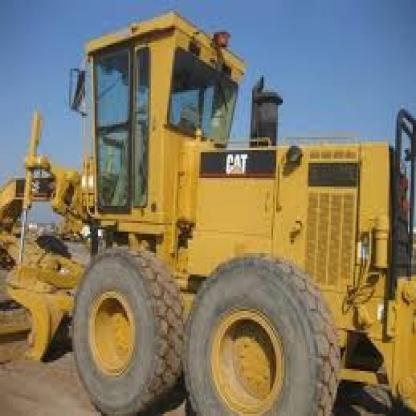bull_dozer/loader/grader: (1, 11, 414, 414)
